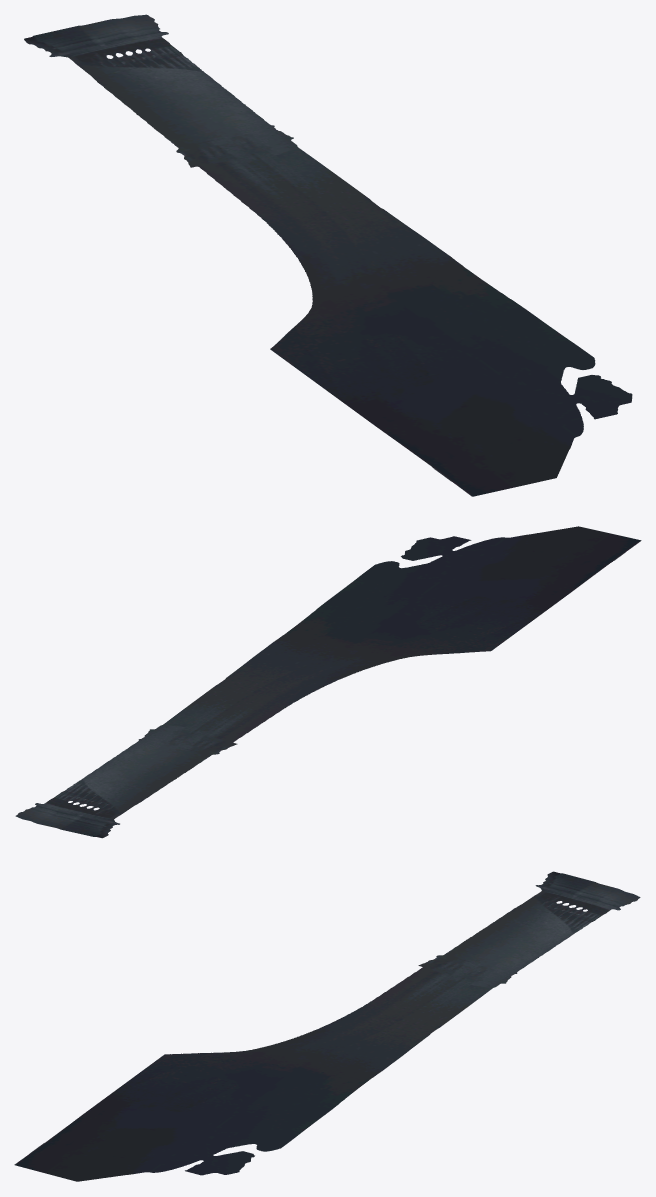
Rendered from peristele_left.fbx.
3 renders of one model, top to bottom at view 1: azimuth 30°, elevation 25°; view 2: azimuth 150°, elevation 25°; view 3: azimuth 330°, elevation 25°, orthographic. The views are drawn at different scales.
Visible parts, largest first — view 1: mesh_224_310.nr; view 2: mesh_224_310.nr; view 3: mesh_224_310.nr.
Part boxes in pixels (x1,y1,x2,y2): mesh_224_310.nr: (24,14,632,496); mesh_224_310.nr: (15,526,641,838); mesh_224_310.nr: (14,871,640,1181).
Size of the model in its own units: 3576 by 907 by 18.39.
